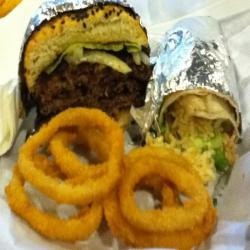burger: (20, 4, 154, 138)
fries: (5, 113, 229, 250)
